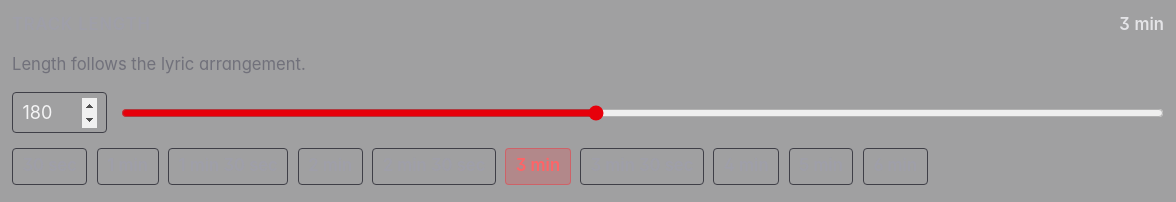
Scenario: DurationSlider › calls setDuration from the number input and clamps to the 30–360 range
The width and height of the screenshot is (1176, 202).
Later steps or results of the test are not shown.
Replace the text in the number field named "Track Length (Seconds)" with "12" at (60,113), box left=12, top=92, right=107, bottom=133
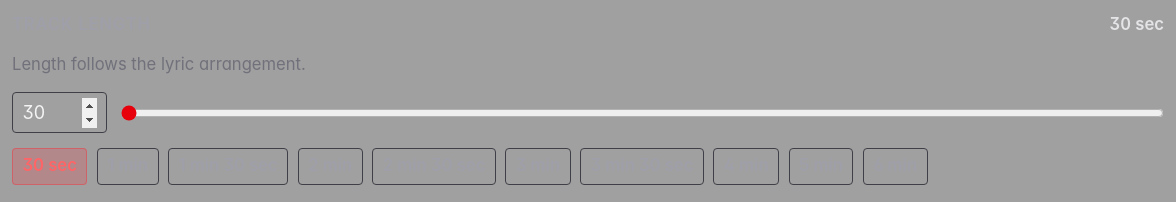
Now the number field named "Track Length (Seconds)" holds "30"
Replace the text in the number field named "Track Length (Seconds)" with "999" at (60,113), box left=12, top=92, right=107, bottom=133
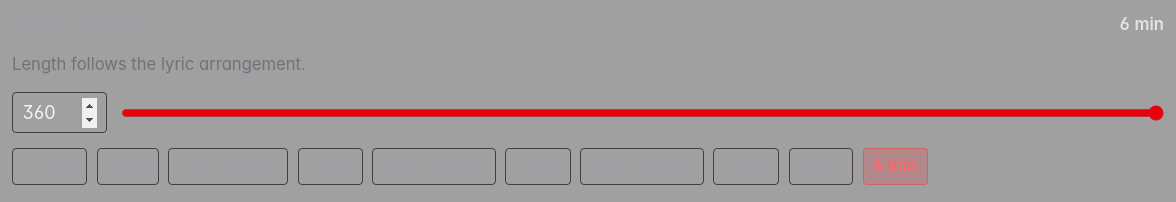
Now the number field named "Track Length (Seconds)" holds "360", box left=12, top=92, right=107, bottom=133
